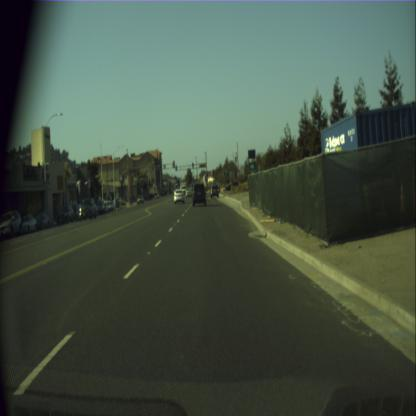Green: (192, 161, 194, 168)
